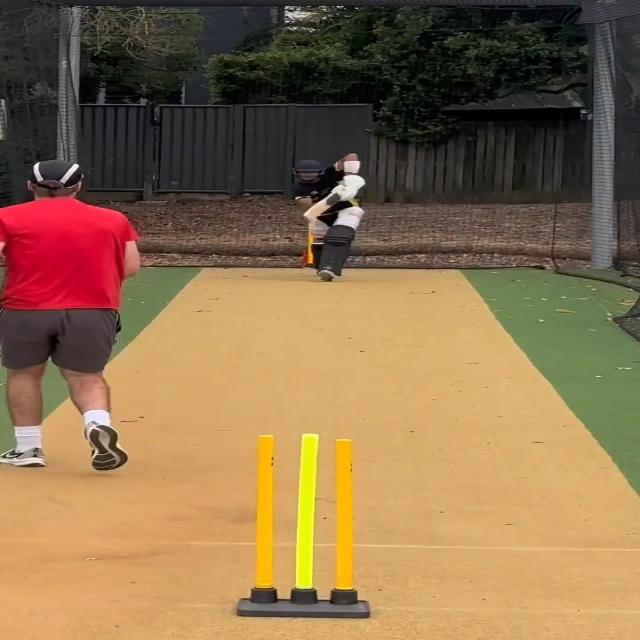stump: (232, 432, 375, 620)
